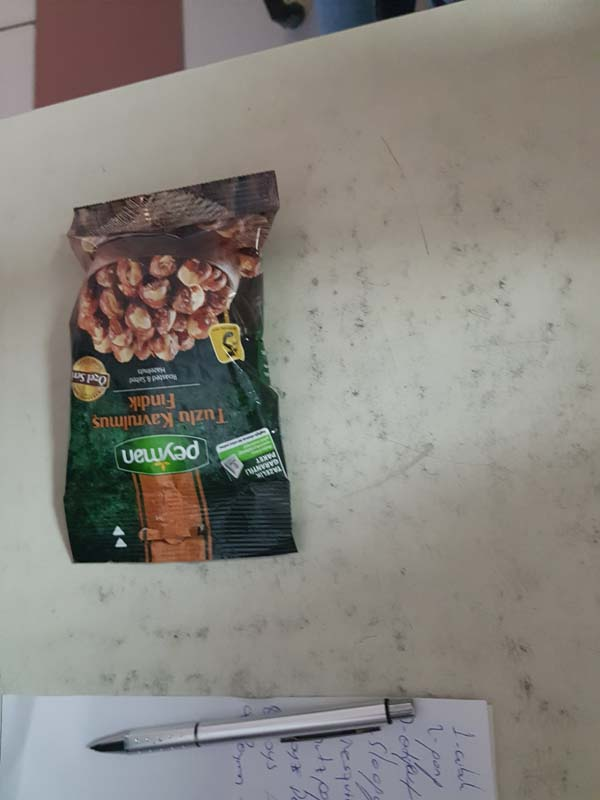peysankavrulmusfindik: (62, 162, 299, 576)
